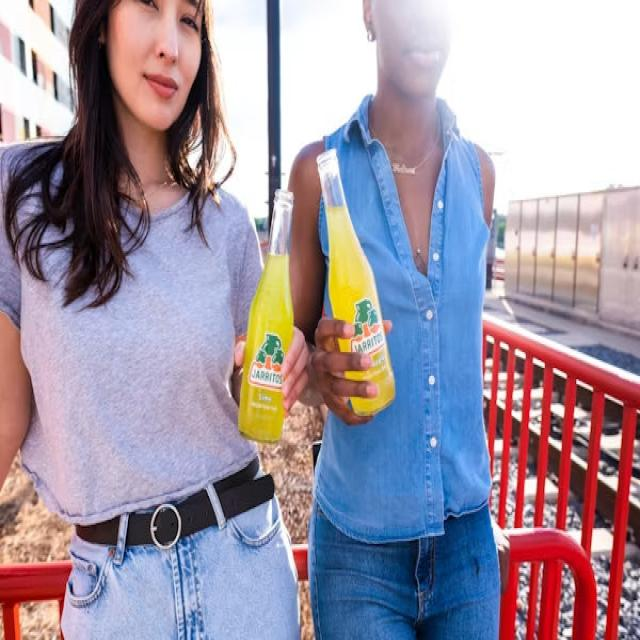Bottle: (317, 149, 394, 415), (239, 191, 293, 443)
